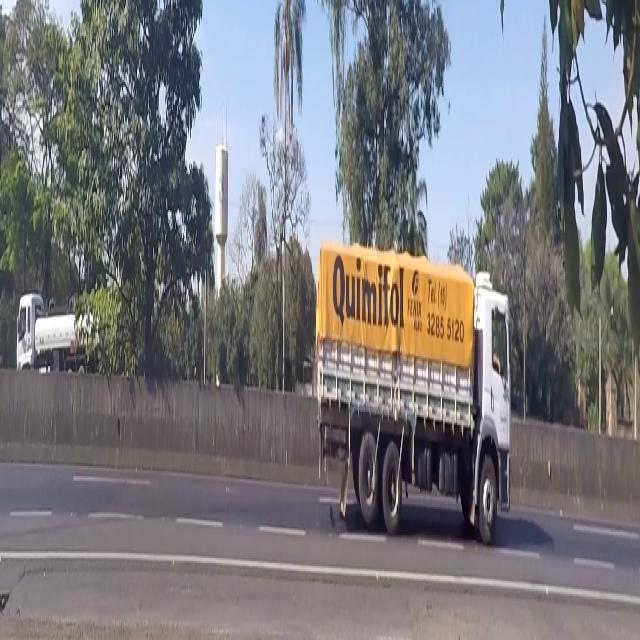-axle: (477, 446, 498, 554), (356, 427, 378, 528), (381, 436, 402, 535)
